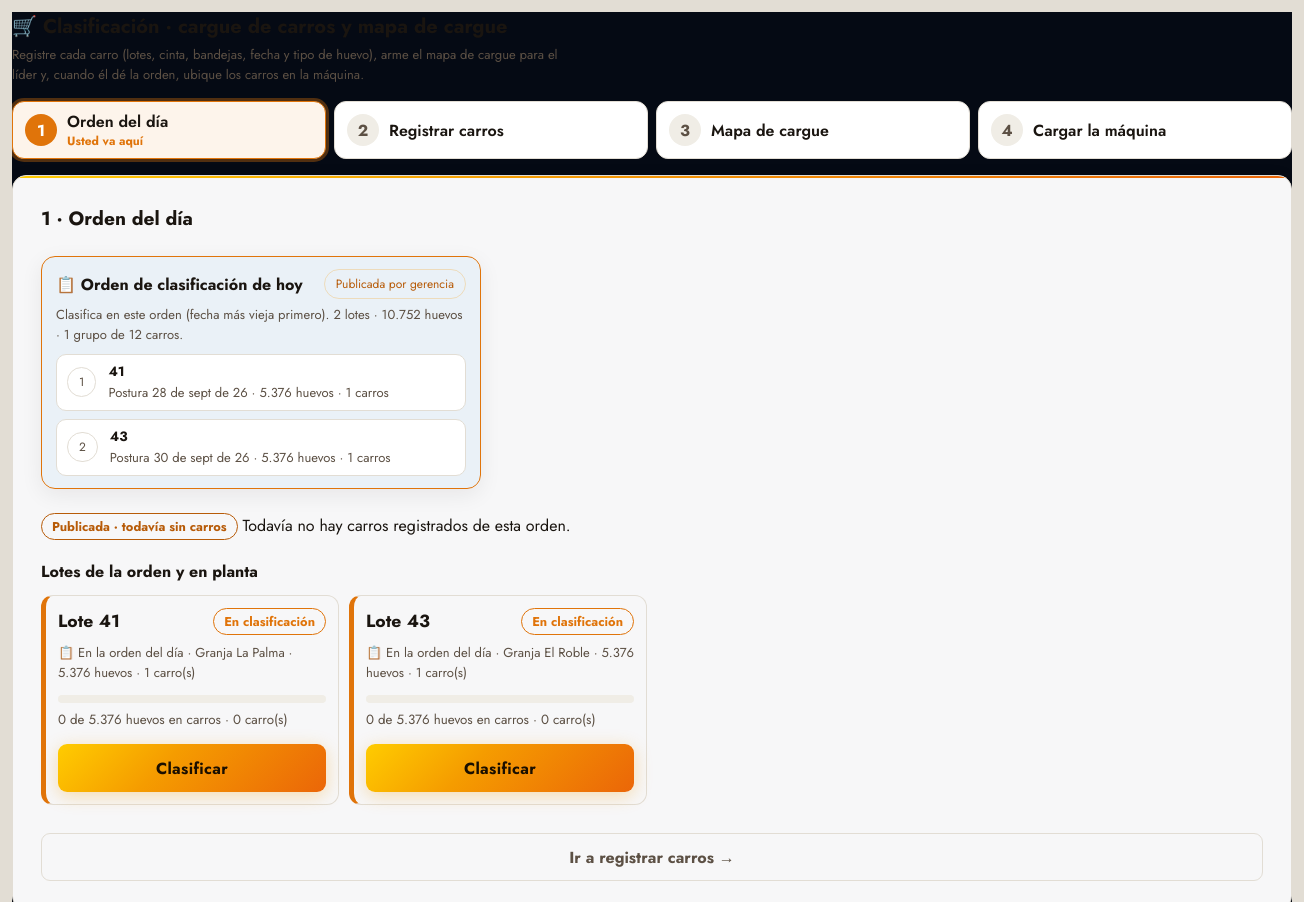
Test: pantalla de clasificación del operario › «Clasificar» en un lote de la orden abre el registro de carros con ESE lote ya elegido
Expected: the element with class "cls-lot" shows "En clasificación", 224,612 -> 315,631
Click the button "Clasificar" below "Granja La Palma ·" at (192, 768), box 58,744 -> 326,792
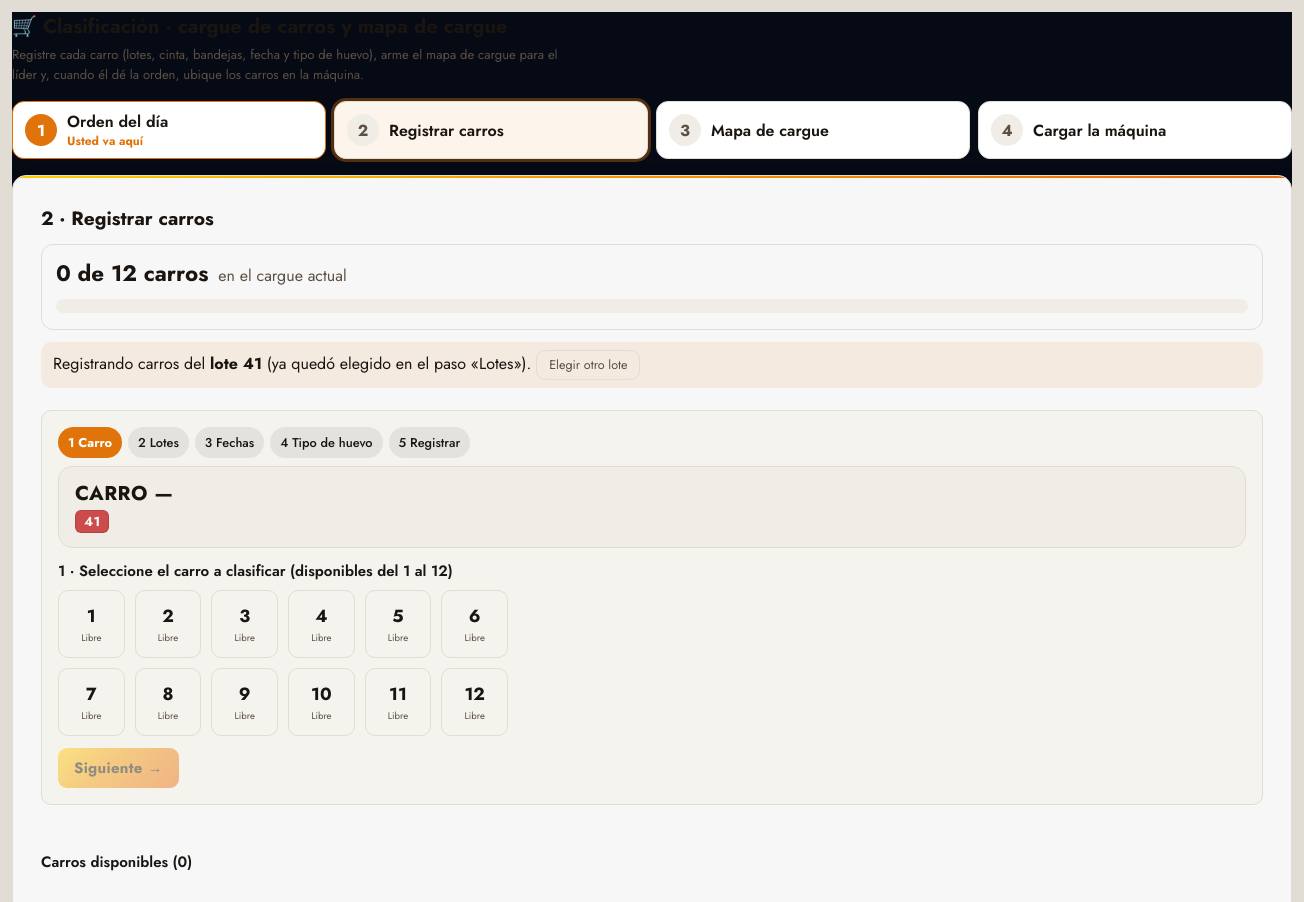
Expected: the text "Registrando carros del lote 41" is shown, 41,342 -> 1263,388
Expected: the text "0 de 12 carros" is shown, 56,257 -> 208,289
Click the button "3 Libre" at (245, 624), box 211,590 -> 278,658
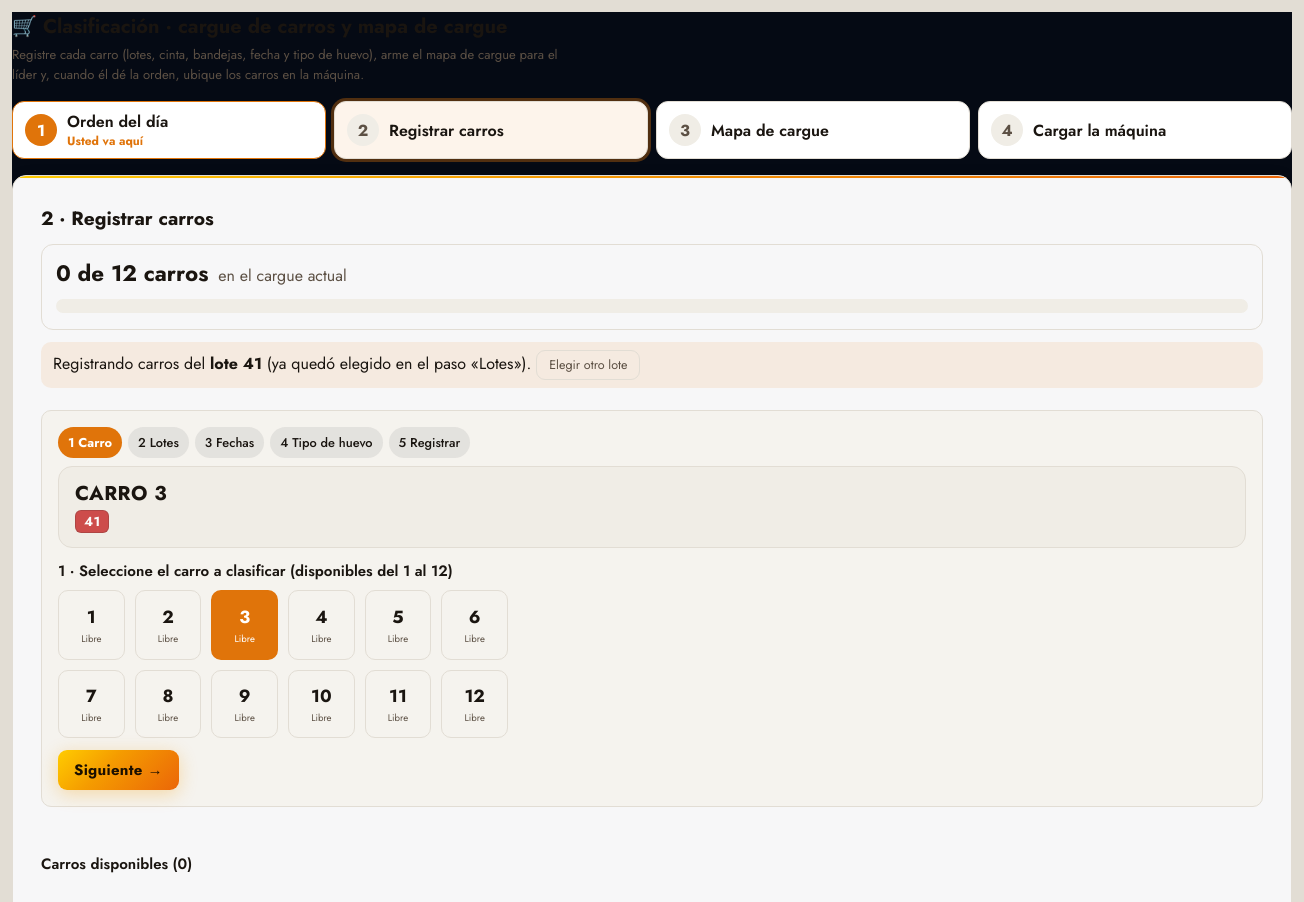
Click the button "Siguiente →" at (118, 770), box 58,750 -> 179,790
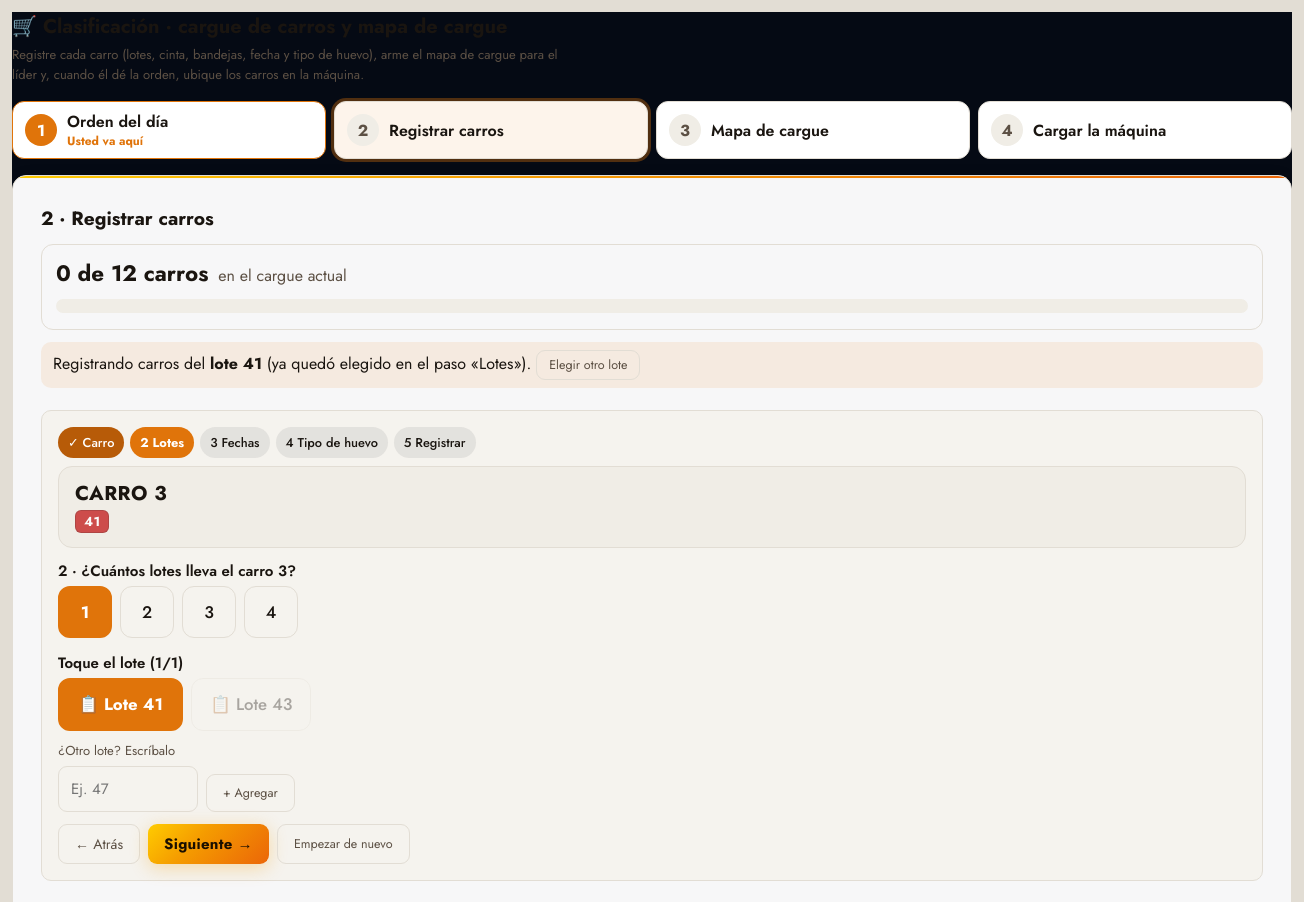
Expected: the text "2 · ¿Cuántos lotes lleva el carro 3?" is shown, 58,560 -> 296,582
Expected: the text "(1/1)" is shown, 58,652 -> 183,674
